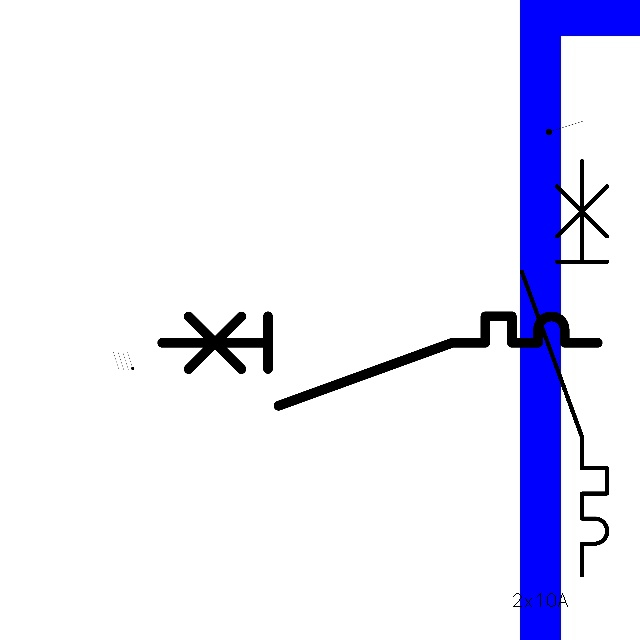interruptor_termomagnetico: (150, 305, 608, 417), (511, 150, 618, 586)
